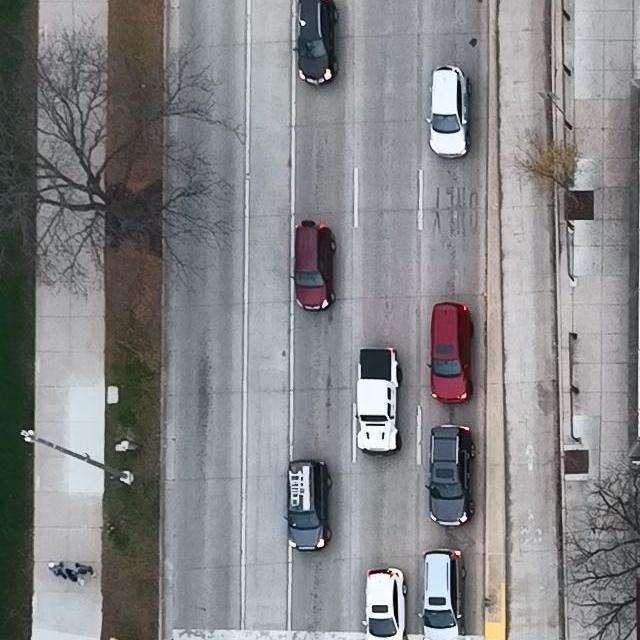car: (425, 425, 478, 528), (355, 347, 404, 456), (426, 302, 475, 404), (281, 459, 332, 552), (417, 549, 467, 640), (289, 221, 338, 313), (426, 65, 472, 160), (293, 0, 339, 88), (361, 566, 408, 640)
